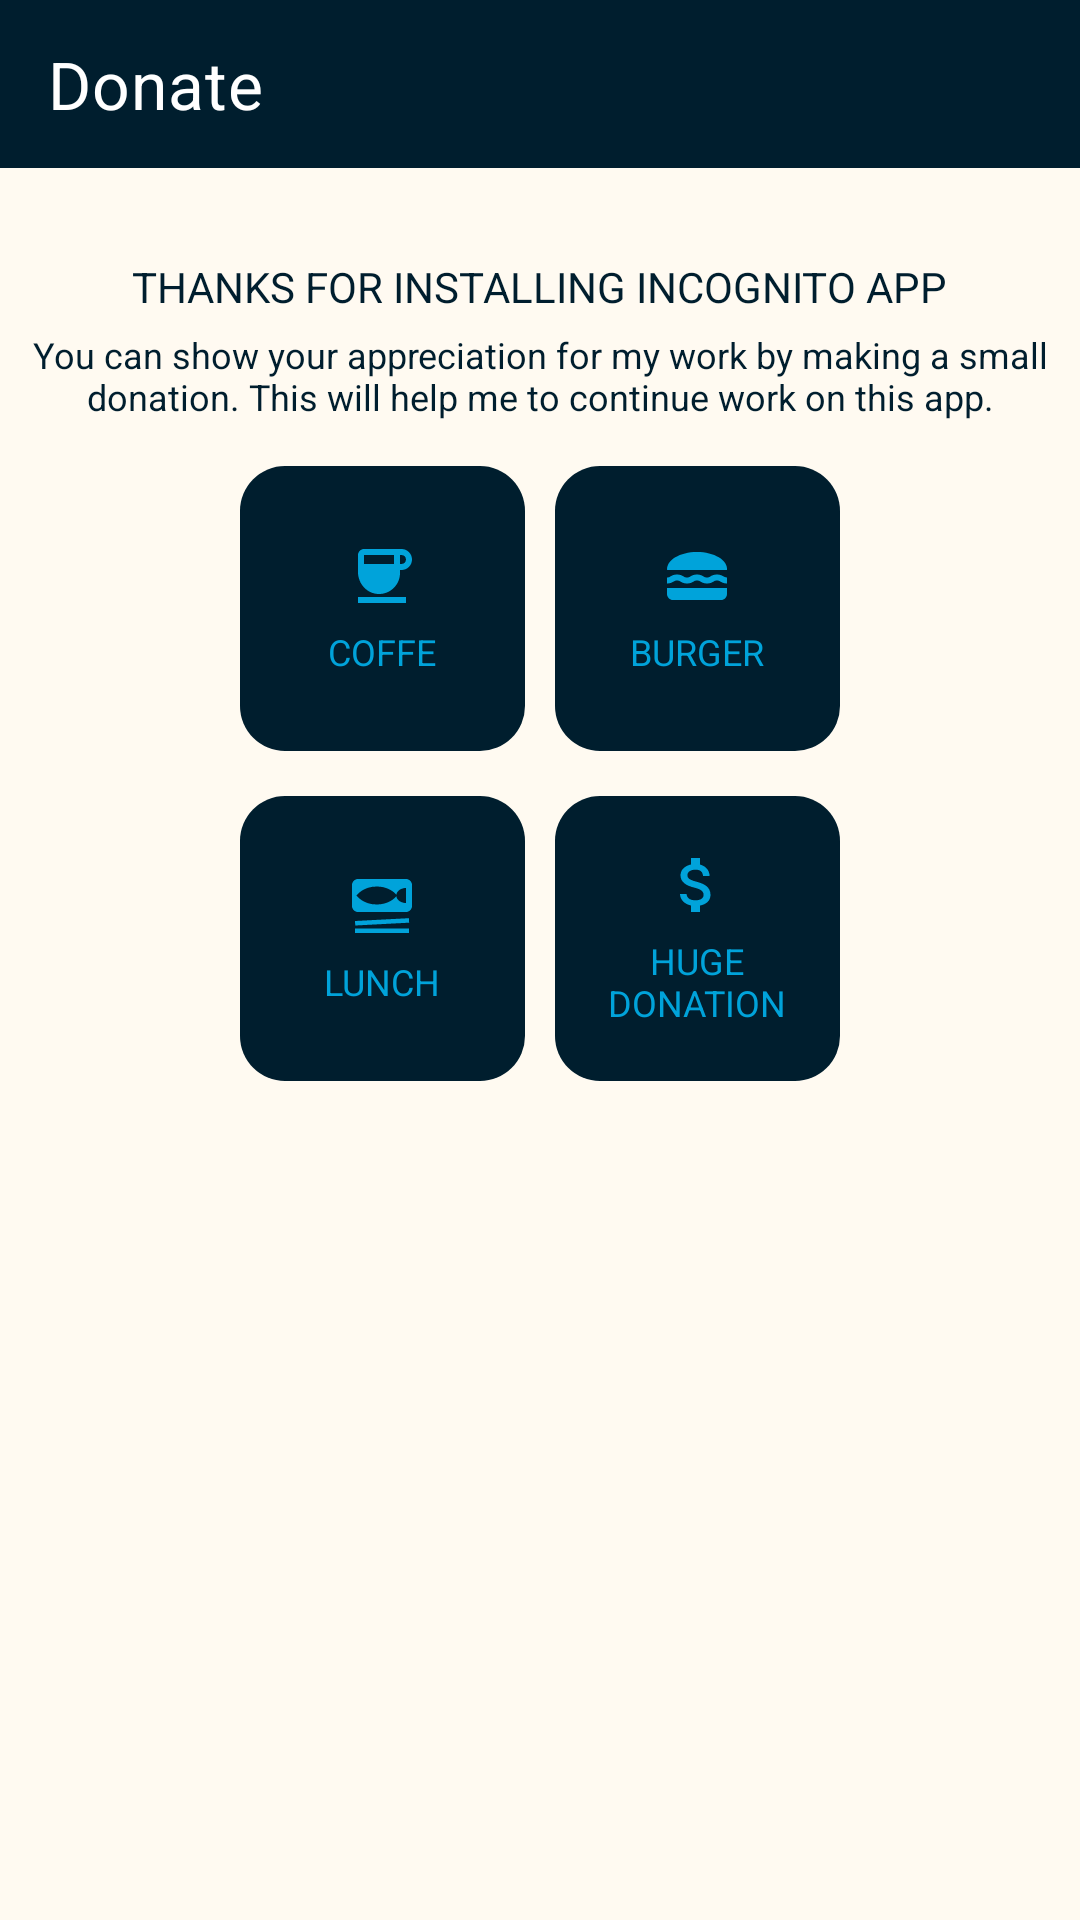

Where to tap for icons on this 1080*1920 app screen, as [x,y]:
attach money: [695,885]
lunch dining: [697,576]
set meal: [382,906]
